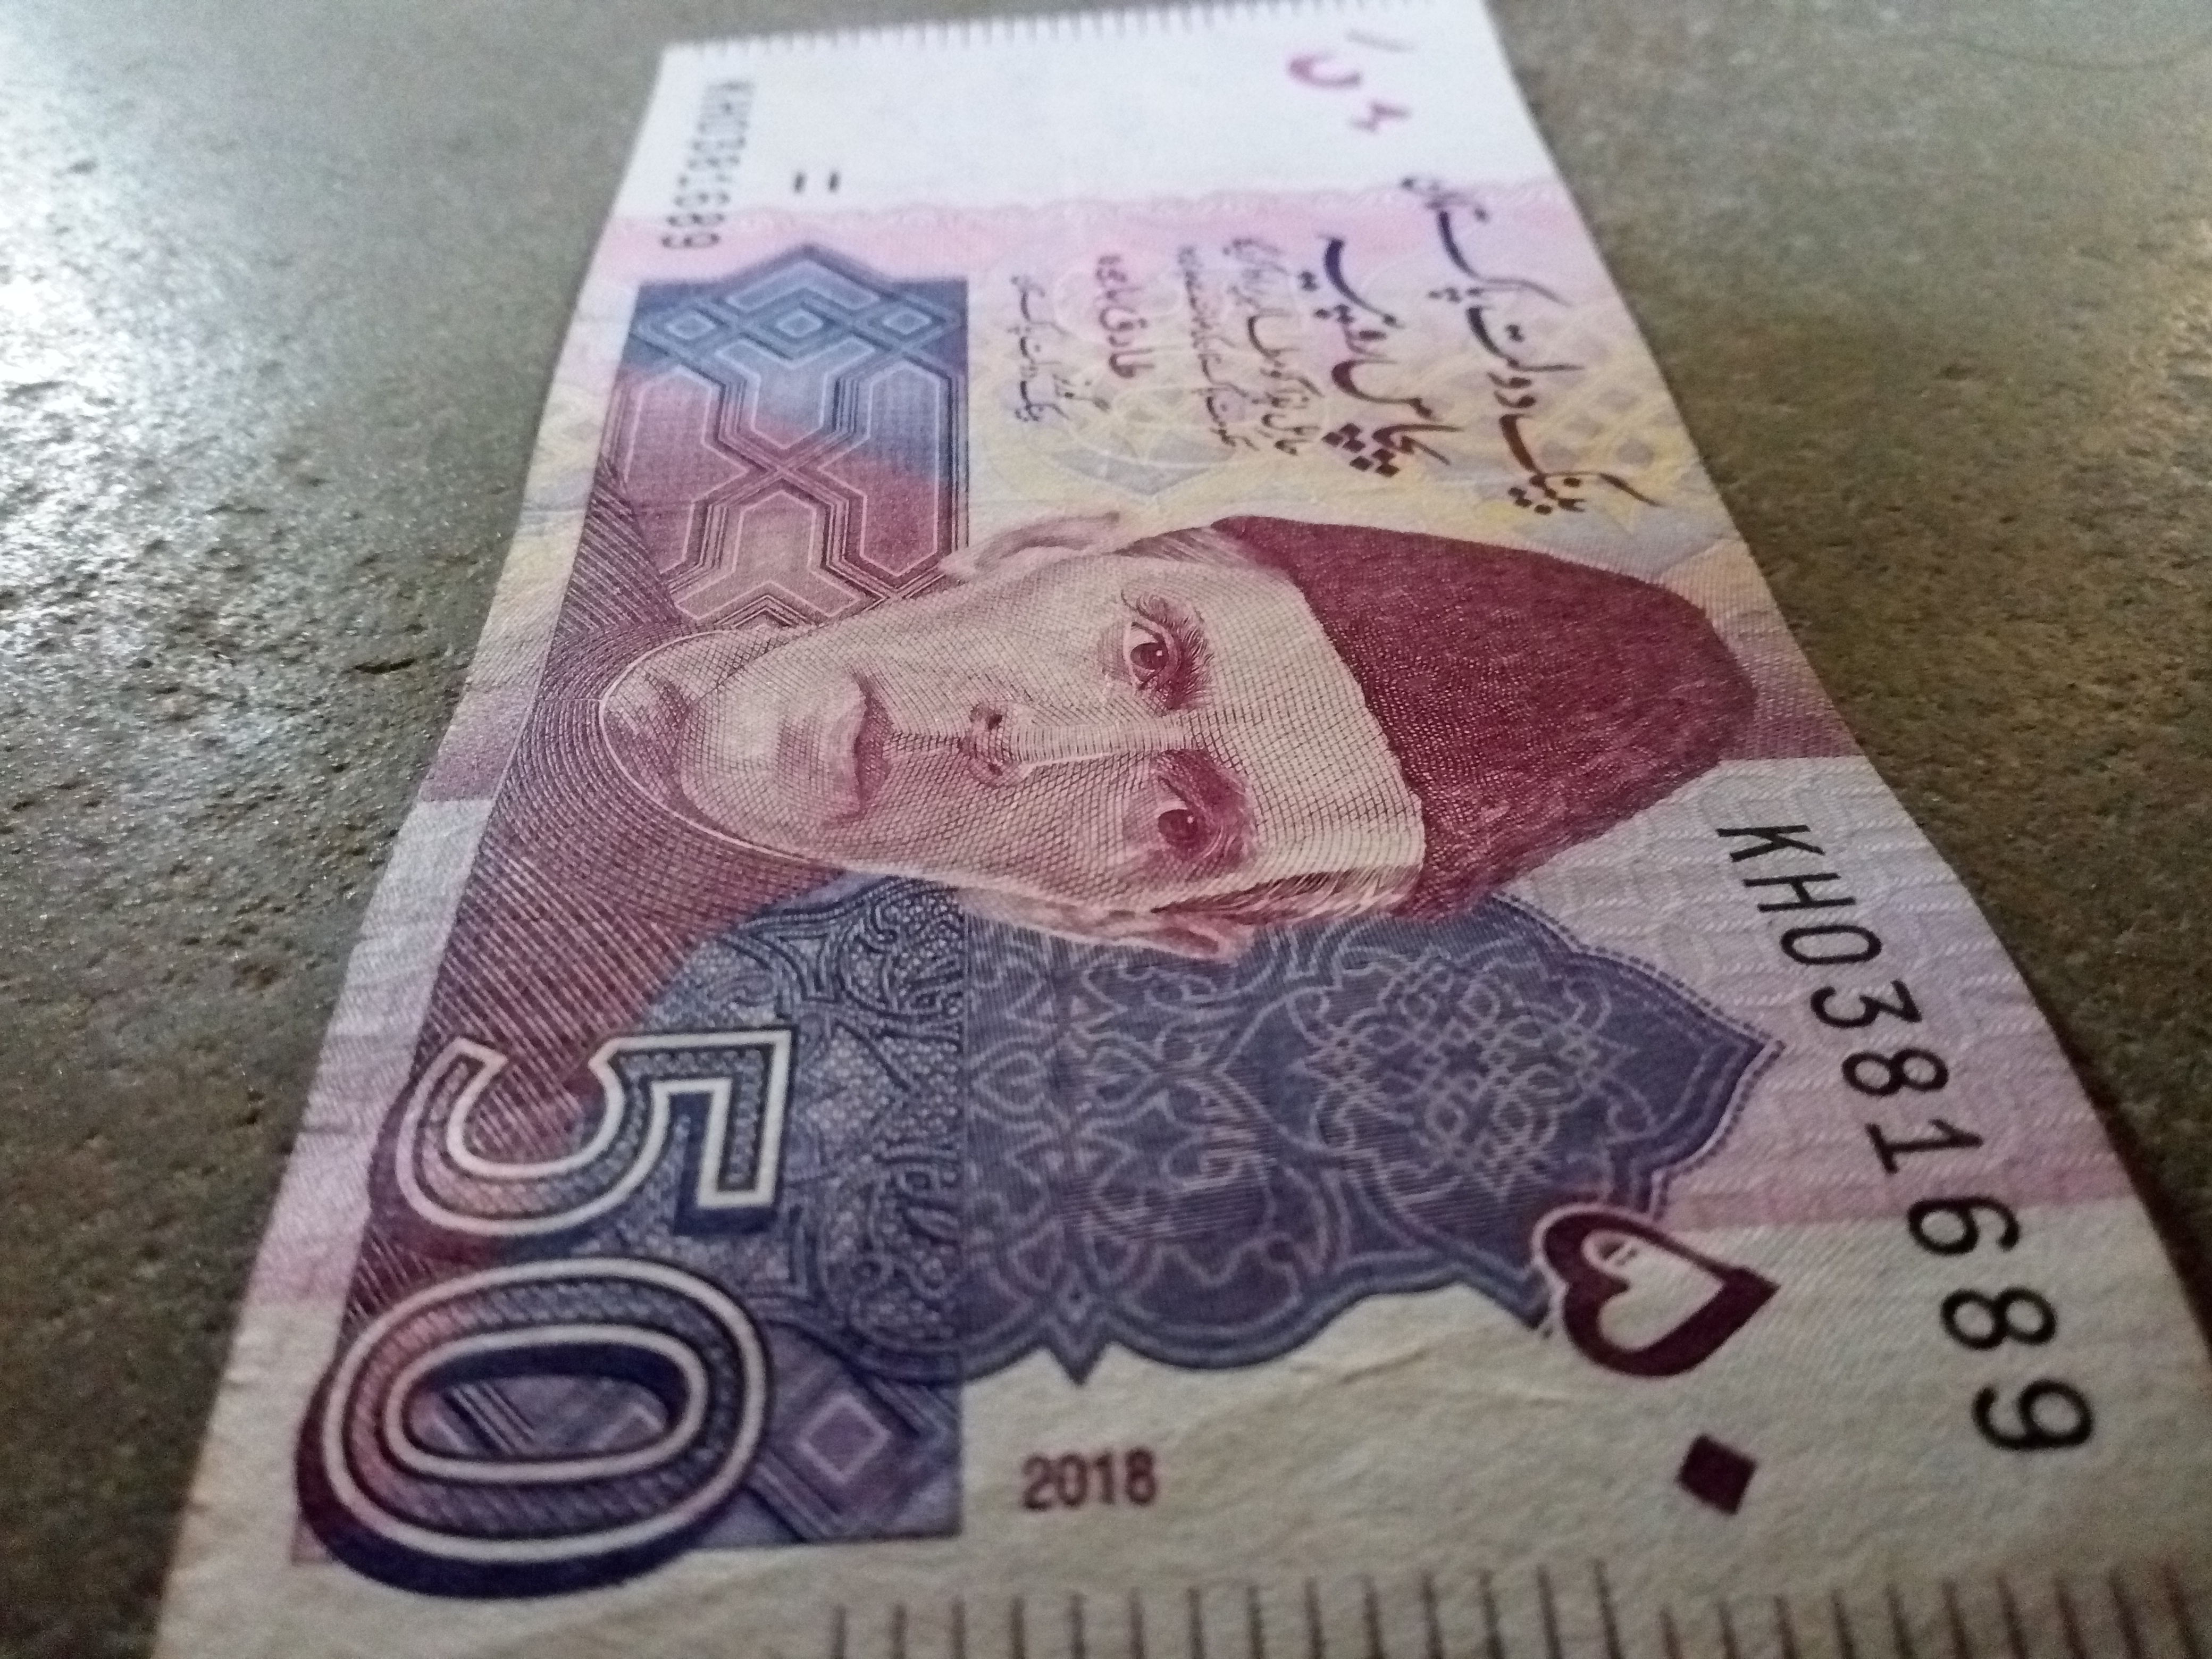50 rupee: (212, 21, 2148, 1649)
